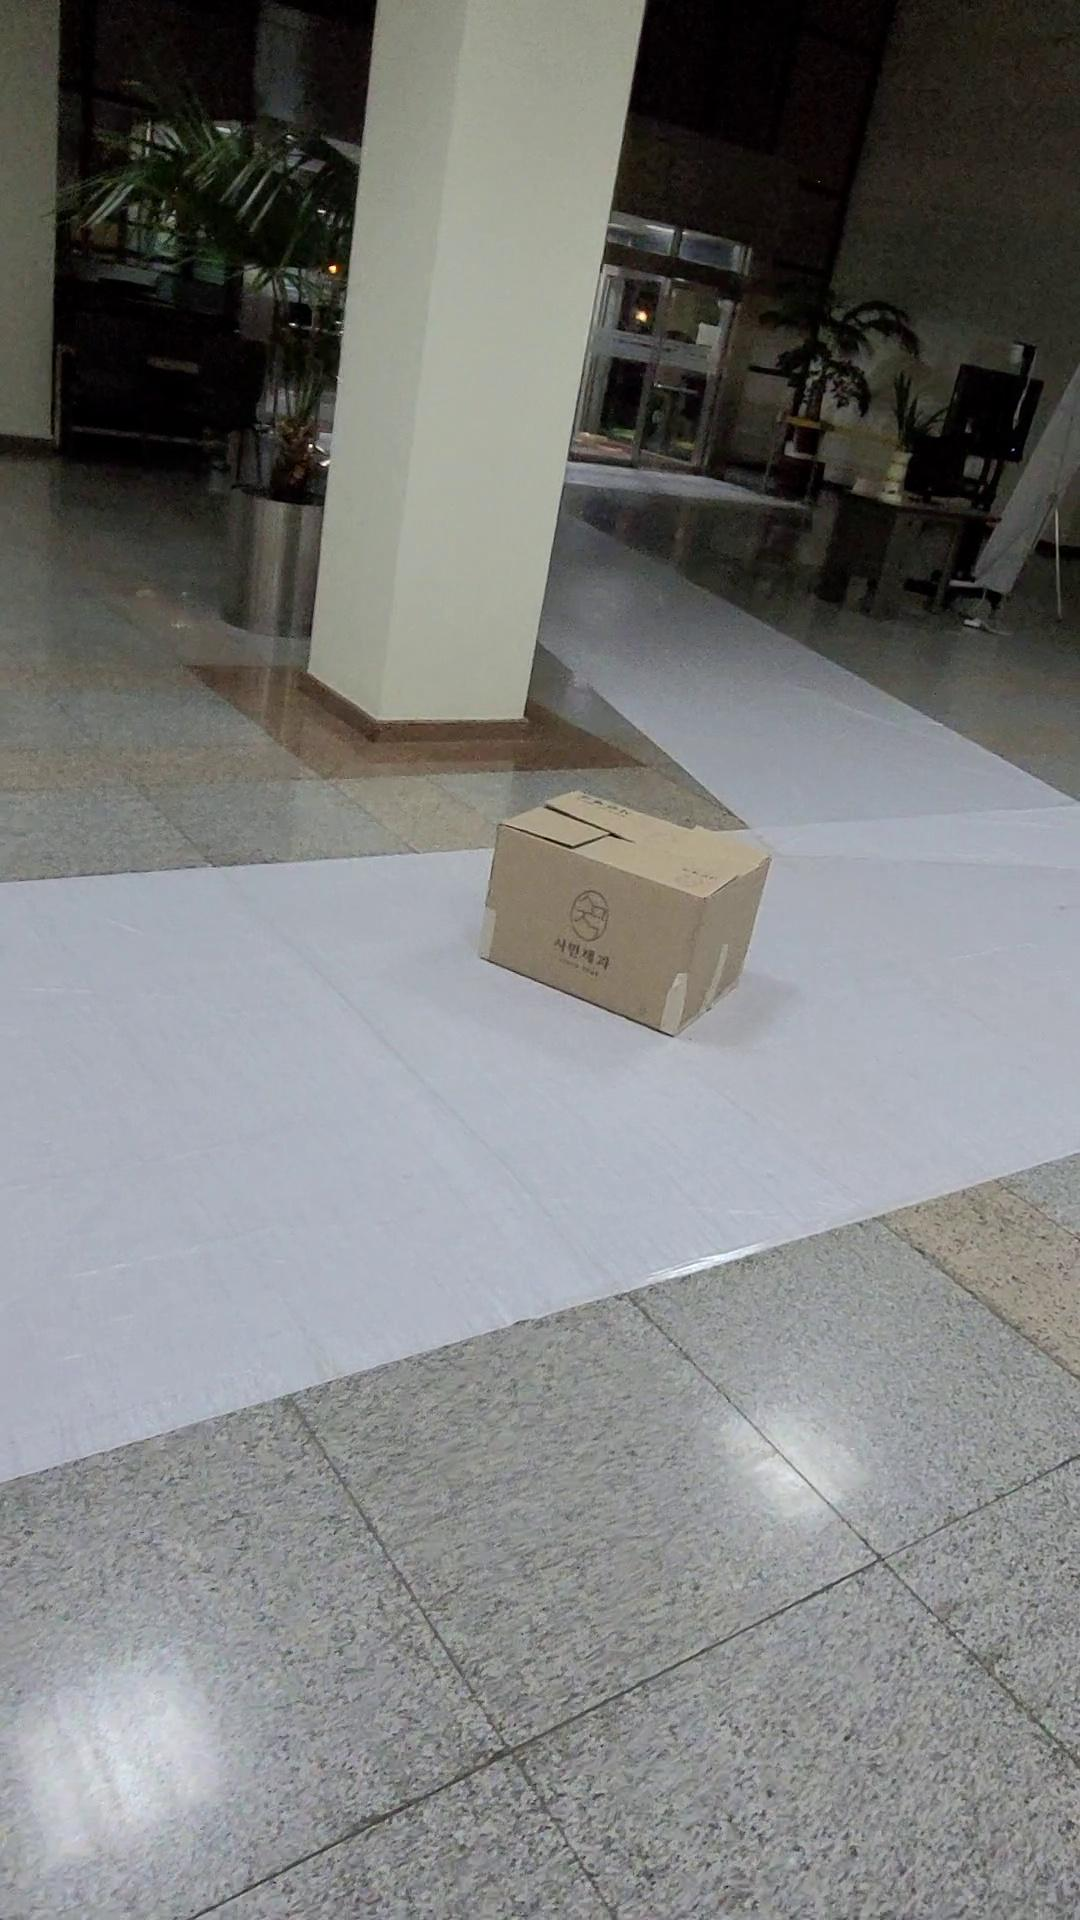Box: (463, 750, 807, 1067)
